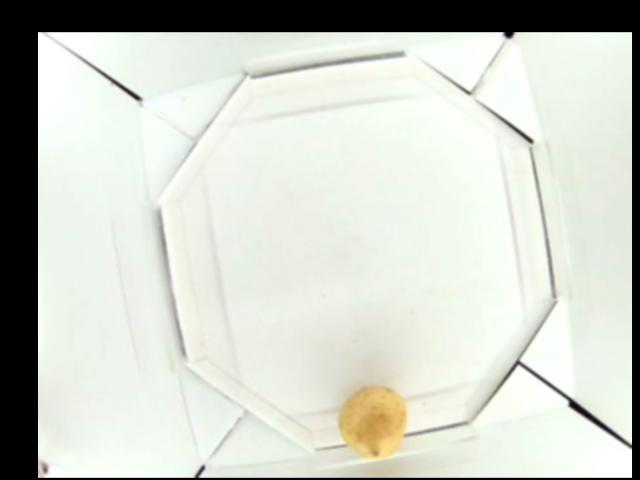Potato: (339, 385, 407, 460)
